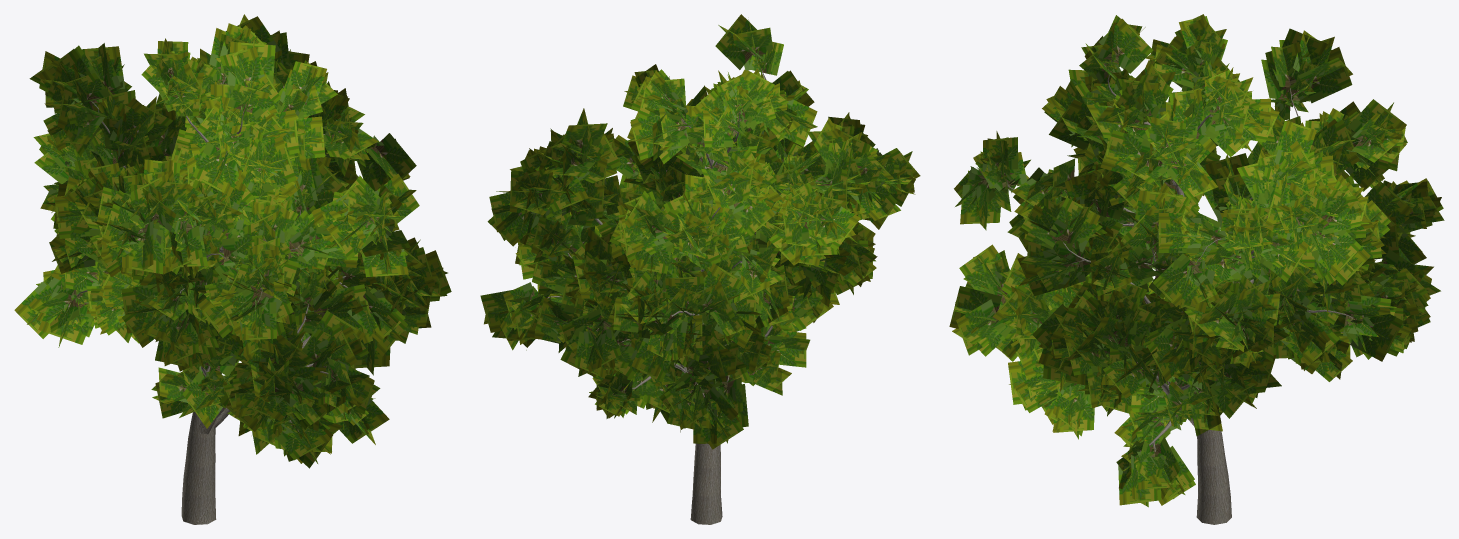
File: tree-tall.glb
The picture shows the model from 3 angles, left to right: view 1: azimuth 30°, elevation 25°; view 2: azimuth 150°, elevation 25°; view 3: azimuth 270°, elevation 25°; orthographic projection. The views are drawn at different scales.
Visible parts, largest first — view 1: tree-tall; view 2: tree-tall; view 3: tree-tall.
Part boxes in pixels (box(x1,y1,x2,y2)): tree-tall: box(14, 14, 451, 524); tree-tall: box(480, 14, 920, 524); tree-tall: box(949, 14, 1444, 524).
Size of what is drawn, in the model's own units: 10.26 by 14 by 12.48.
2 materials, 2 textured.
